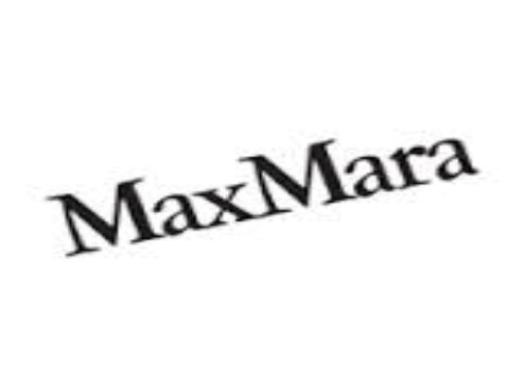MAX-MARA: (35, 128, 479, 262)
